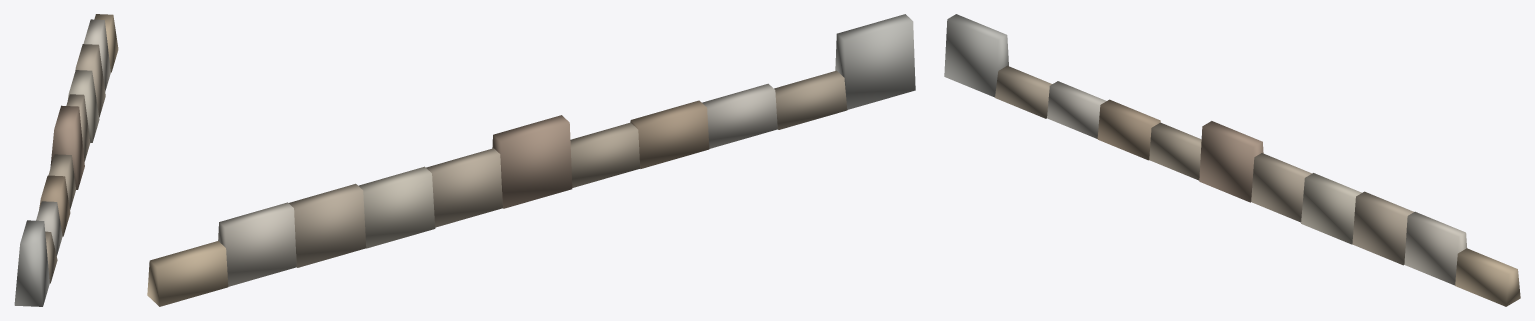
File: farm_-17_-22_collision.glb
3 views of the same model, side by side, from view 1: azimuth 30°, elevation 25°; view 2: azimuth 150°, elevation 25°; view 3: azimuth 270°, elevation 25° (orthographic). The views are drawn at different scales.
Visible parts, largest first — view 1: geometry_0; view 2: geometry_0; view 3: geometry_0.
Boxes of the visible parts, bbox=[...] form: geometry_0: bbox=[14, 14, 118, 306]; geometry_0: bbox=[147, 14, 915, 306]; geometry_0: bbox=[944, 14, 1520, 306].
Size of the model in its own units: 10.71 by 3.23 by 14.58.
